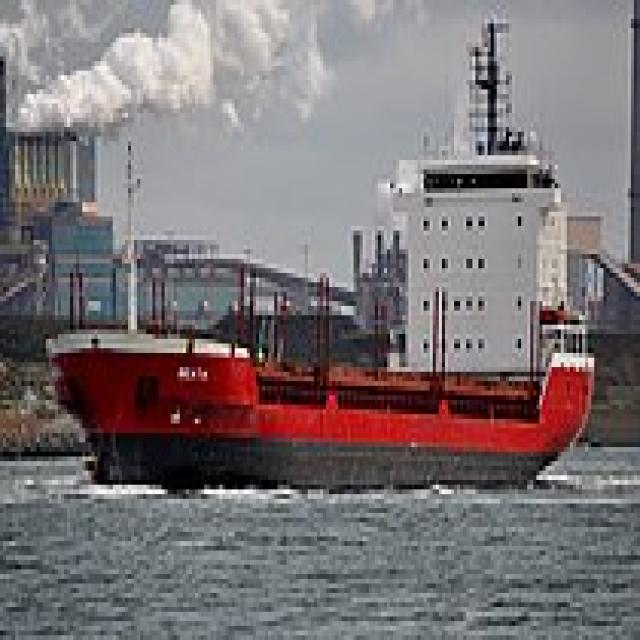Cargo: (40, 5, 594, 494)
